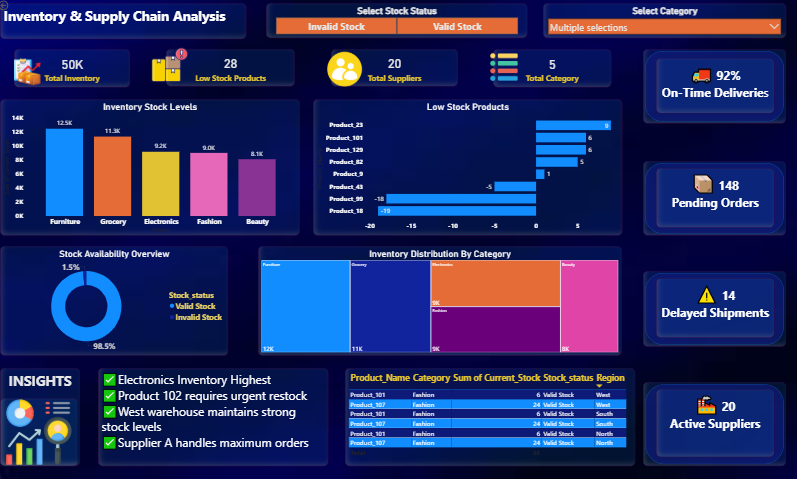

The dashboard page shown, as its layout file describes it:
{"tool":"powerbi","page":{"name":"Inventory & Supply Chain Analysis","canvas":[2500,1500],"ordinal":2},"visuals":[{"type":"textbox","box":[10,13.3,770,113.3],"z":0},{"type":"card","fields":{"Values":["MeasureTable.Total Inventory"]},"box":[53.3,156.7,363.3,120],"z":1000},{"type":"card","fields":{"Values":["MeasureTable.Low Stock Products"]},"box":[527.8,156.7,403.3,116.7],"z":2000},{"type":"card","fields":{"Values":["MeasureTable.Total Suppliers"]},"box":[1042.2,156.7,396.7,116.7],"z":3000},{"type":"card","fields":{"Values":["MeasureTable.Total Category"]},"box":[1550,156.7,370,120],"z":4000},{"type":"slicer","title":"Select Category","fields":{"Values":["Product_master.Category"]},"box":[1706.7,13.3,760,110],"z":5000},{"type":"clusteredColumnChart","title":"Inventory Stock Levels","fields":{"Category":["Product_master.Category"],"Y":["Sum(Inventory_Data.Current_Stock)"]},"box":[10,313.3,936.7,426.7],"z":6000},{"type":"clusteredBarChart","title":"Low Stock Products","fields":{"Category":["Product_master.Product_Name"],"Y":["Sum(Inventory_Data.Current_Stock)"]},"box":[986.7,313.3,966.7,426.7],"z":7000},{"type":"treemap","title":"Inventory Distribution By Category","fields":{"Group":["Product_master.Category"],"Values":["Sum(Inventory_Data.Current_Stock)"]},"box":[816.7,773.3,1136.7,343.3],"z":8000},{"type":"tableEx","fields":{"Values":["Product_master.Product_Name","Product_master.Category","Sum(Inventory_Data.Current_Stock)","Inventory_Data.Stock_status","Store_data.Region"]},"box":[1086.7,1153.3,906.7,306.7],"z":9000},{"type":"textbox","box":[316.7,1153.3,720,306.7],"z":10000},{"type":"donutChart","title":"Stock Availability Overview","fields":{"Category":["Inventory_Data.Stock_status"],"Y":["CountNonNull(Product_master.Product_ID)"]},"box":[10,773.3,713.3,343.3],"z":11000},{"type":"actionButton","box":[0,0,100,40],"z":12000},{"type":"textbox","box":[10,1153.3,250,306.7],"z":13000},{"type":"image","box":[10,1246.7,243.3,213.3],"z":14000},{"type":"shape","box":[2020,156.7,446.7,233.3],"z":15000},{"type":"shape","box":[2020,506.7,446.7,233.3],"z":16000},{"type":"shape","box":[2020,850,446.7,236.7],"z":17000},{"type":"shape","box":[2020,1196.7,446.7,263.3],"z":18000},{"type":"textbox","box":[2060,183.3,370,173.3],"z":19000},{"type":"textbox","box":[2060,526.7,370,186.7],"z":20000},{"type":"textbox","box":[2060,873.3,370,186.7],"z":21000},{"type":"textbox","box":[2060,1220,370,213.3],"z":22000},{"type":"image","box":[53.3,183.3,83.3,86.7],"z":23000},{"type":"image","box":[480,140,116.7,130],"z":24000},{"type":"image","box":[1030,156.7,110,126.7],"z":25000},{"type":"image","box":[1540,156.7,86.7,113.3],"z":26000},{"type":"slicer","title":"Select Stock Status","fields":{"Values":["Inventory_Data.Stock_status"]},"box":[840,13.3,816.7,110],"z":27000}]}

Visuals, with their boxes in screenshot pixels (x1, y1, x2, y2), scaled from the page's 2500x1500 canvas onto the 797x479 screenshot:
textbox: <bbox>3, 4, 249, 40</bbox>
card - MeasureTable.Total Inventory: <bbox>17, 50, 133, 88</bbox>
card - MeasureTable.Low Stock Products: <bbox>168, 50, 297, 87</bbox>
card - MeasureTable.Total Suppliers: <bbox>332, 50, 459, 87</bbox>
card - MeasureTable.Total Category: <bbox>494, 50, 612, 88</bbox>
"Select Category" slicer: <bbox>544, 4, 786, 39</bbox>
"Inventory Stock Levels" clusteredColumnChart: <bbox>3, 100, 302, 236</bbox>
"Low Stock Products" clusteredBarChart: <bbox>315, 100, 623, 236</bbox>
"Inventory Distribution By Category" treemap: <bbox>260, 247, 623, 357</bbox>
tableEx - Product_master.Product_Name x Product_master.Category: <bbox>346, 368, 635, 466</bbox>
textbox: <bbox>101, 368, 330, 466</bbox>
"Stock Availability Overview" donutChart: <bbox>3, 247, 231, 357</bbox>
actionButton: <bbox>0, 0, 32, 13</bbox>
textbox: <bbox>3, 368, 83, 466</bbox>
image: <bbox>3, 398, 81, 466</bbox>
shape: <bbox>644, 50, 786, 125</bbox>
shape: <bbox>644, 162, 786, 236</bbox>
shape: <bbox>644, 271, 786, 347</bbox>
shape: <bbox>644, 382, 786, 466</bbox>
textbox: <bbox>657, 59, 775, 114</bbox>
textbox: <bbox>657, 168, 775, 228</bbox>
textbox: <bbox>657, 279, 775, 338</bbox>
textbox: <bbox>657, 390, 775, 458</bbox>
image: <bbox>17, 59, 44, 86</bbox>
image: <bbox>153, 45, 190, 86</bbox>
image: <bbox>328, 50, 363, 90</bbox>
image: <bbox>491, 50, 519, 86</bbox>
"Select Stock Status" slicer: <bbox>268, 4, 528, 39</bbox>
